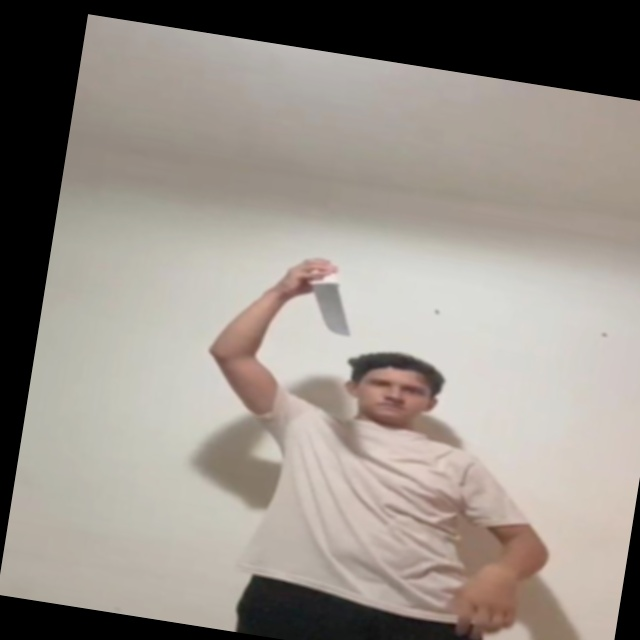Sharp-Object: (303, 283, 359, 335)
